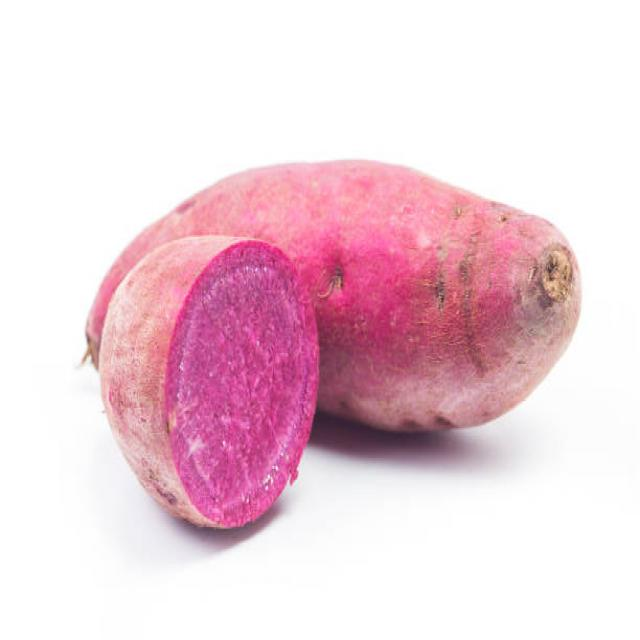Sweet Potato: (317, 150, 583, 440), (93, 230, 319, 539)
